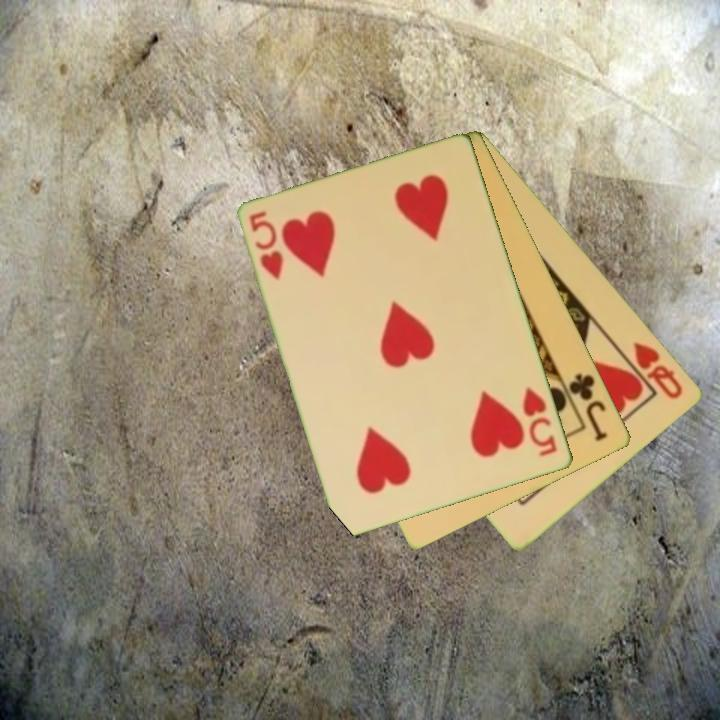5h: (519, 383, 561, 460), (246, 208, 287, 284)
Jc: (566, 369, 611, 445)
Qh: (630, 338, 686, 402)
